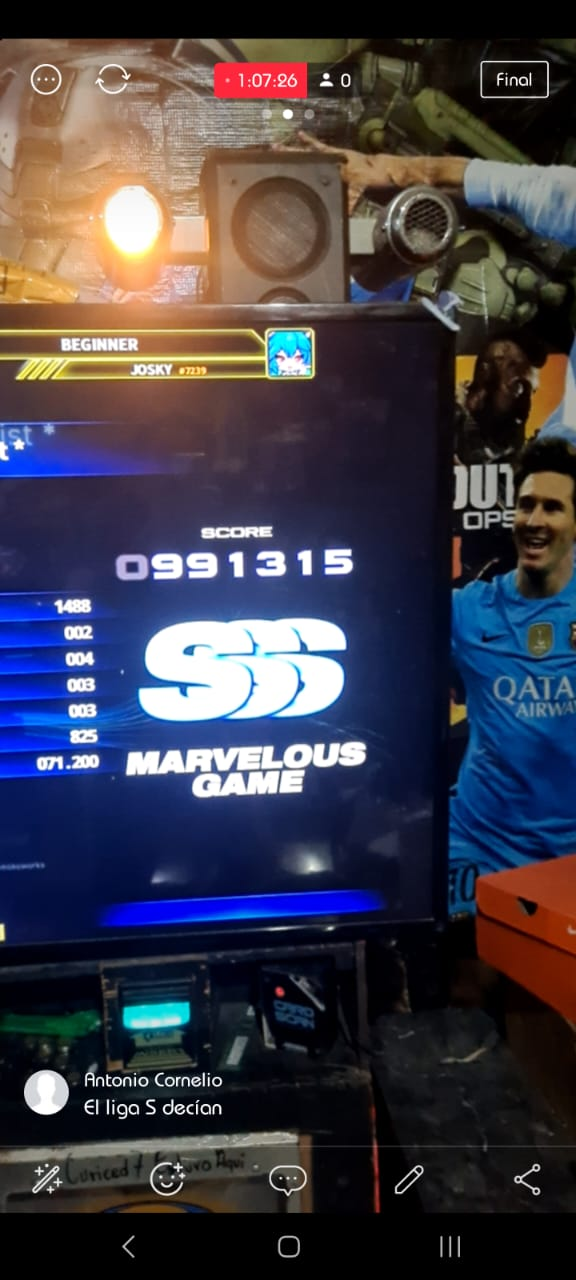fullscore: (6, 324, 454, 939)
rank: (95, 585, 390, 746)
score: (93, 506, 411, 583)
song_name: (0, 415, 210, 451)
